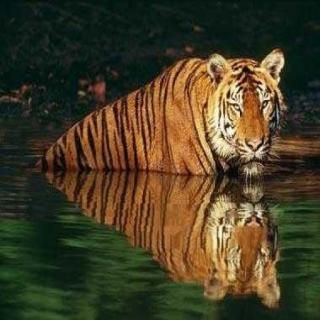Tiger: (39, 39, 287, 202)
